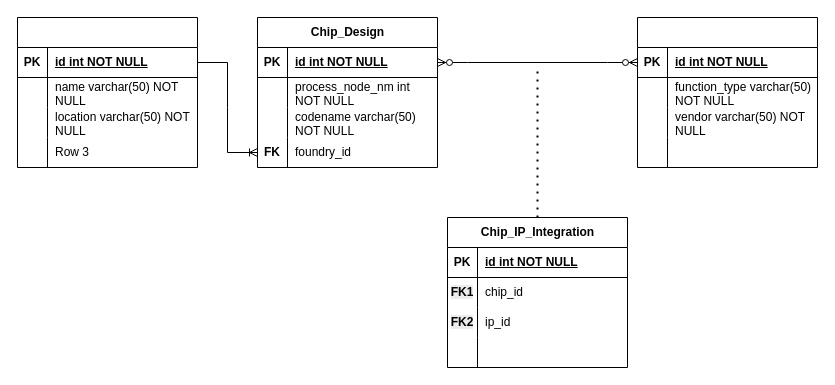
This 835x385 diagram has some shape labels left out. Each missing label, with the box of its shape:
Foundry_Fabs: (16, 16, 198, 168)
IP_Core: (636, 16, 818, 168)
